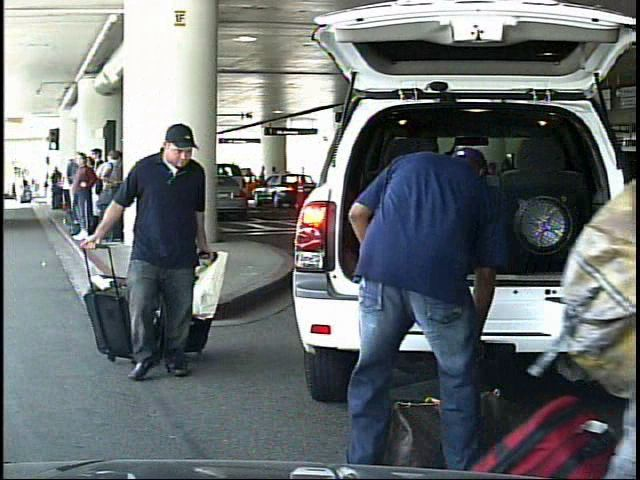person: (314, 118, 500, 476), (86, 118, 228, 393), (14, 171, 25, 202), (257, 163, 268, 179)
